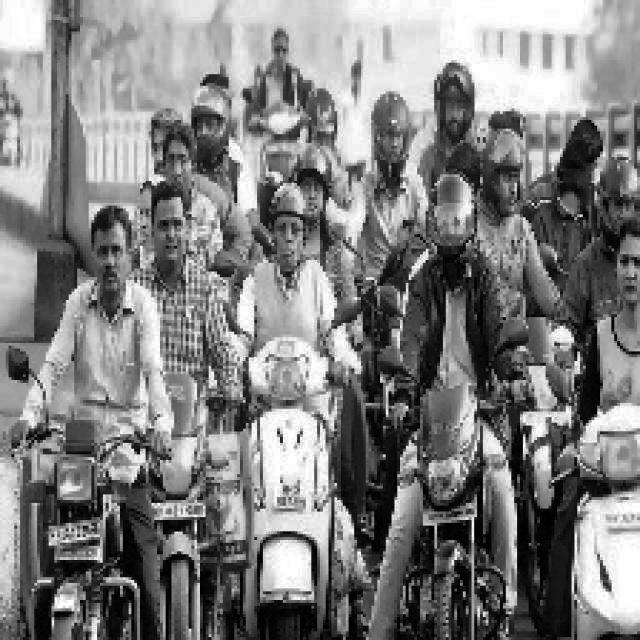Bike: (240, 349, 333, 639), (400, 367, 499, 639), (25, 415, 143, 639), (566, 389, 638, 635), (151, 415, 213, 630)
